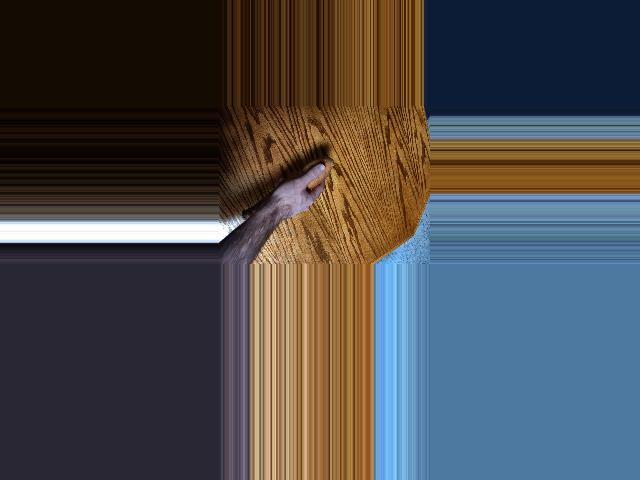sweet_potato: (238, 158, 335, 223)
